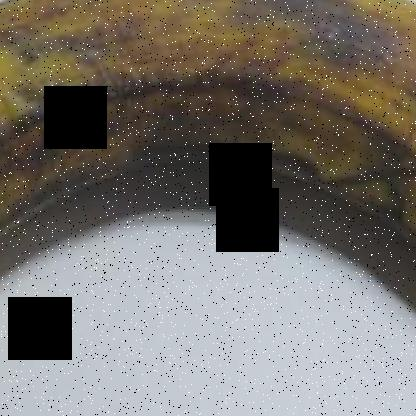overripe: (1, 0, 415, 282)
